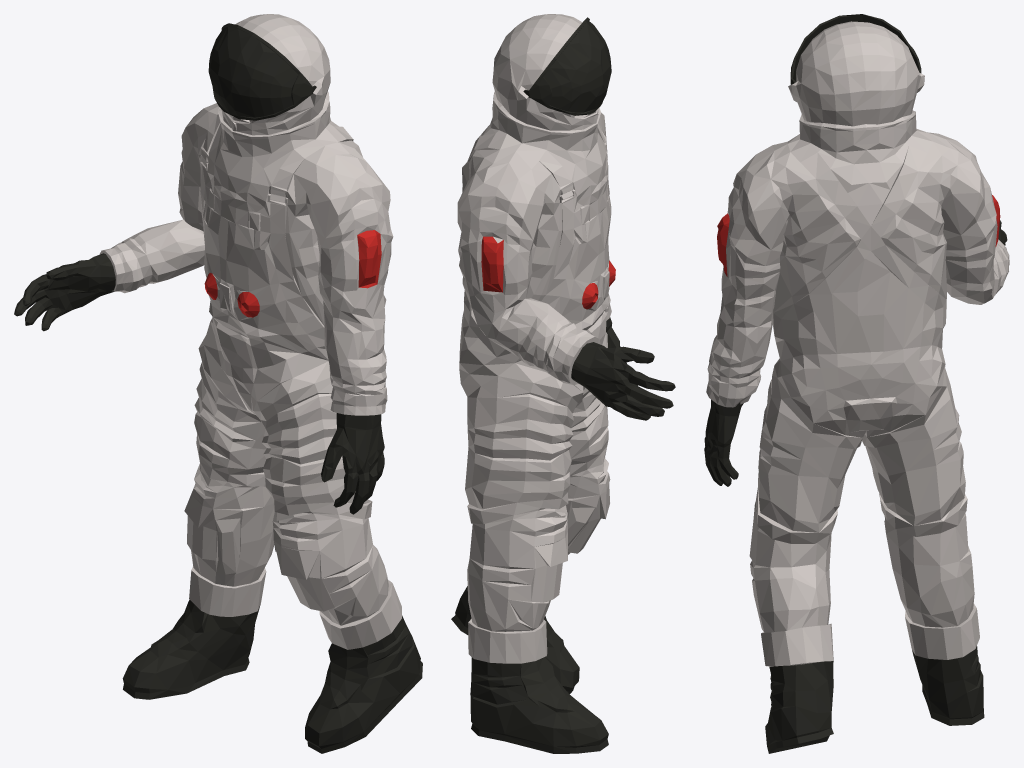
File: 08 Astronaut_3.FBX
3 views of the same model, side by side, from view 1: azimuth 30°, elevation 25°; view 2: azimuth 150°, elevation 25°; view 3: azimuth 270°, elevation 25° (orthographic).
Parts seen in each view (by area): view 1: Astronaut_3; view 2: Astronaut_3; view 3: Astronaut_3.
Boxes of the visible parts, x1=… form: Astronaut_3: x1=14, y1=14, x2=422, y2=753; Astronaut_3: x1=451, y1=14, x2=675, y2=753; Astronaut_3: x1=704, y1=14, x2=1009, y2=753.
Bounding box in the file's own units: 852 × 1846 × 715.
